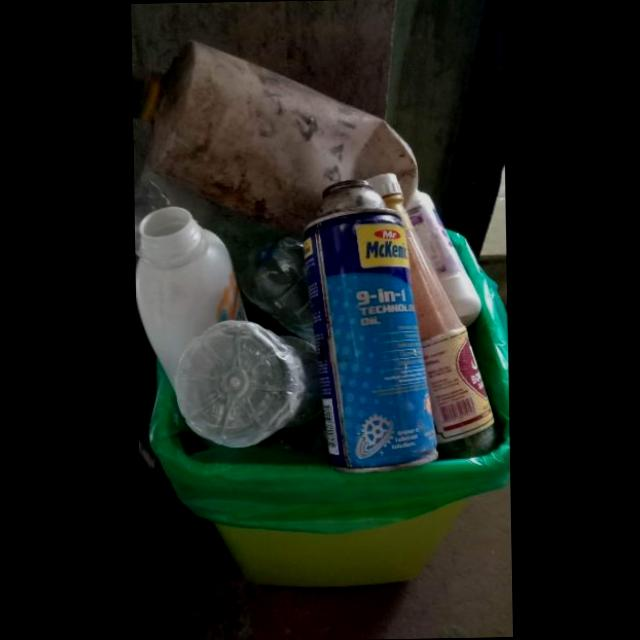chai_nhua_pet: (171, 320, 323, 450)
chai_thuy_tinh: (363, 174, 499, 461)
hop_nhua: (134, 206, 245, 386), (406, 190, 481, 328)
